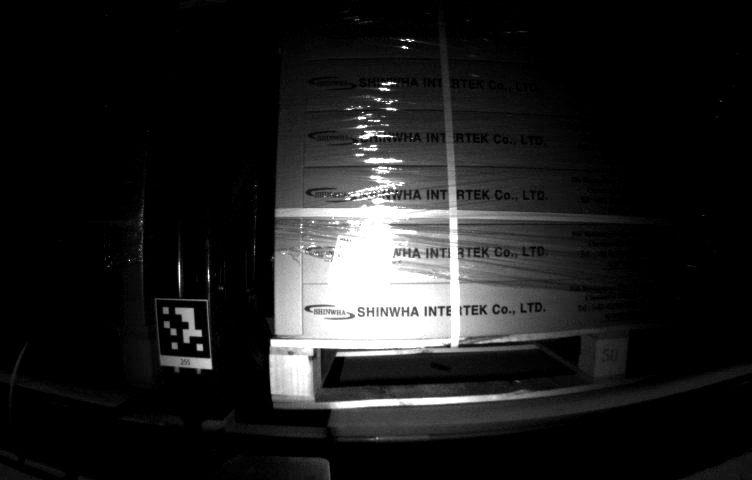True Barcode: (330, 236, 395, 294)
